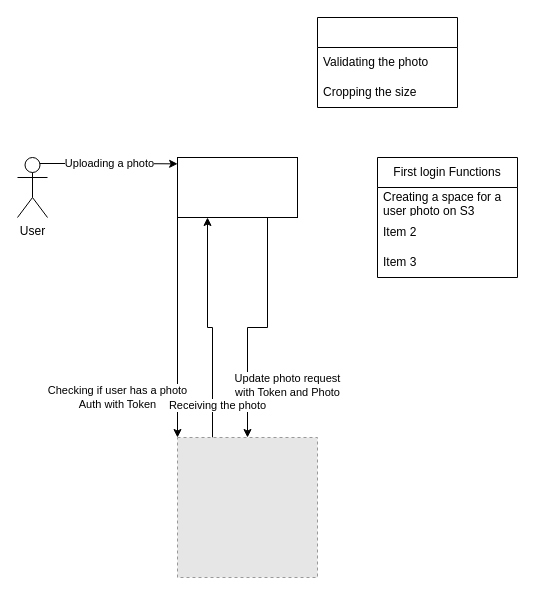
The diagram is 535 pixels wide and 595 high, and some of its shapes have lost their labels. Grey dashed boxes stand in for pictures. Each missing label, with the box of its shape:
Photo functions: (316, 16, 458, 108)
Web GUI: (176, 156, 298, 218)
